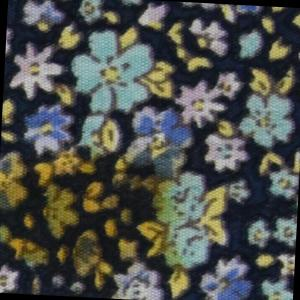Oil Stain: (1, 146, 178, 295)
